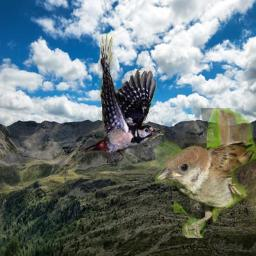Sparrow: (155, 108, 256, 238)
Woodpecker: (83, 33, 166, 163)
